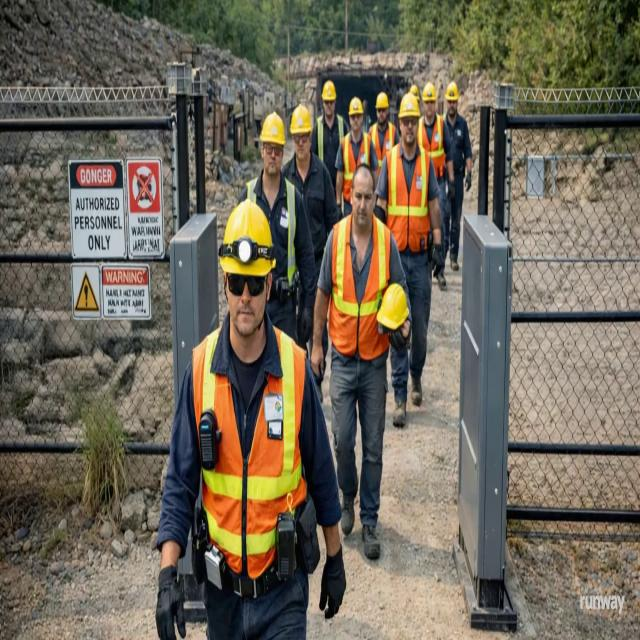Vest: (193, 328, 306, 578), (328, 215, 390, 359), (386, 144, 429, 252), (342, 132, 370, 202), (418, 114, 445, 179), (370, 122, 395, 174), (284, 179, 296, 287), (317, 117, 323, 161)
Worker: (156, 201, 345, 639), (311, 165, 410, 559), (375, 94, 443, 427), (239, 112, 316, 343), (283, 105, 339, 283), (418, 82, 454, 253), (444, 82, 472, 271), (335, 97, 377, 215), (312, 80, 349, 191), (369, 93, 399, 175)
helmet: (219, 200, 274, 276), (377, 283, 408, 330), (260, 112, 285, 146), (290, 105, 312, 135), (398, 93, 420, 119), (322, 80, 336, 102), (423, 82, 436, 102), (375, 92, 389, 110), (349, 97, 363, 115), (446, 82, 458, 101)
